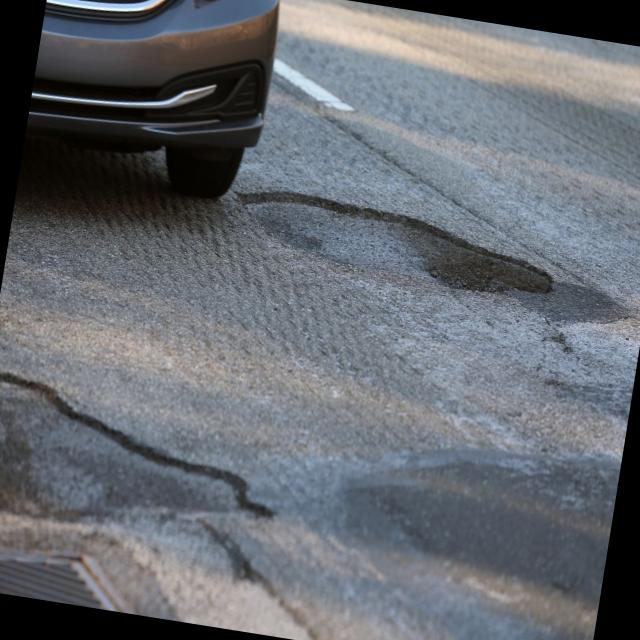Potholes: (0, 350, 281, 632), (228, 170, 574, 336)
